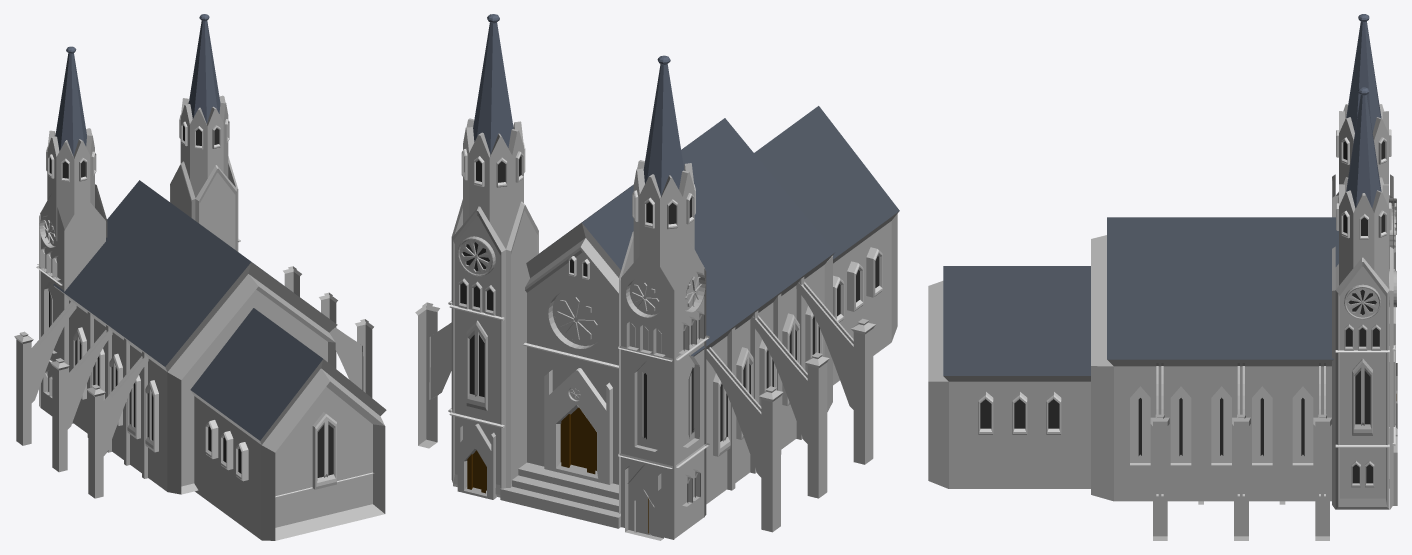
Rendered from Cathedral.glb.
3 renders of one model, left to right at view 1: azimuth 30°, elevation 25°; view 2: azimuth 150°, elevation 25°; view 3: azimuth 270°, elevation 25°, orthographic. The views are drawn at different scales.
Parts seen in each view (by area): view 1: Body_Cube.049, Body.001_Cube.095, Cylinder.007_Cylinder.009, Cylinder.006_Cylinder.008, TowerFace.000_Cube.029, TowerFace.005_Cube.010, TowerFace.003_Cube.029, Cube.056_Cube.080, Cube.054_Cube.075, Cube.059_Cube.083, Cube.071_Cube.096, Cube.061_Cube.085 (+14 smaller); view 2: Body_Cube.049, Body.001_Cube.095, Tower.001_Cube.004, Cylinder.007_Cylinder.009, Tower_Cube.004, Cylinder.006_Cylinder.008, Cube.033_Cube.052, TowerFace.005_Cube.010, TowerFace.002_Cube.020, Cube.059_Cube.083, Cube.056_Cube.080, Cube.054_Cube.075 (+27 smaller); view 3: Body_Cube.049, Body.001_Cube.095, TowerFace.001_Cube.010, Cylinder.006_Cylinder.008, Cylinder.007_Cylinder.009, Cube.062_Cube.086, Cube.068_Cube.092, Cube.065_Cube.089, Cube.052_Cube.073, Cube.049_Cube.070, Cube.051_Cube.072, Cube.050_Cube.071 (+8 smaller).
Boxes of the visible parts, <box> form: Body_Cube.049: <box>53,180,337,494</box>; Body.001_Cube.095: <box>190,308,386,540</box>; Cylinder.007_Cylinder.009: <box>47,46,94,240</box>; Cylinder.006_Cylinder.008: <box>180,14,228,197</box>; TowerFace.000_Cube.029: <box>64,197,105,423</box>; TowerFace.005_Cube.010: <box>39,194,64,415</box>; TowerFace.003_Cube.029: <box>195,165,236,250</box>; Cube.056_Cube.080: <box>50,358,69,472</box>; Cube.054_Cube.075: <box>14,331,33,445</box>; Cube.059_Cube.083: <box>86,384,105,498</box>; Cube.071_Cube.096: <box>312,412,336,489</box>; Cube.061_Cube.085: <box>103,356,148,455</box>; Body_Cube.049: <box>525,118,835,504</box>; Body.001_Cube.095: <box>754,106,899,385</box>; Tower.001_Cube.004: <box>621,247,674,539</box>; Cylinder.007_Cylinder.009: <box>633,55,694,304</box>; Tower_Cube.004: <box>453,206,505,497</box>; Cylinder.006_Cylinder.008: <box>463,14,523,248</box>; Cube.033_Cube.052: <box>544,368,612,484</box>; TowerFace.005_Cube.010: <box>673,243,706,538</box>; TowerFace.002_Cube.020: <box>506,201,538,487</box>; Cube.059_Cube.083: <box>851,318,875,464</box>; Cube.056_Cube.080: <box>805,352,829,498</box>; Cube.054_Cube.075: <box>759,386,783,532</box>; Body_Cube.049: <box>1091,217,1338,501</box>; Body.001_Cube.095: <box>928,266,1090,488</box>; TowerFace.001_Cube.010: <box>1335,257,1389,509</box>; Cylinder.006_Cylinder.008: <box>1339,87,1388,288</box>; Cylinder.007_Cylinder.009: <box>1339,14,1388,184</box>; Cube.062_Cube.086: <box>1150,414,1169,540</box>; Cube.068_Cube.092: <box>1313,414,1332,540</box>; Cube.065_Cube.089: <box>1232,414,1250,540</box>; Cube.052_Cube.073: <box>1292,386,1313,465</box>; Cube.049_Cube.070: <box>1170,386,1191,465</box>; Cube.051_Cube.072: <box>1252,386,1272,465</box>; Cube.050_Cube.071: <box>1211,386,1231,465</box>.
Bounding box in the file's own units: 13.44 × 16.79 × 17.34.
